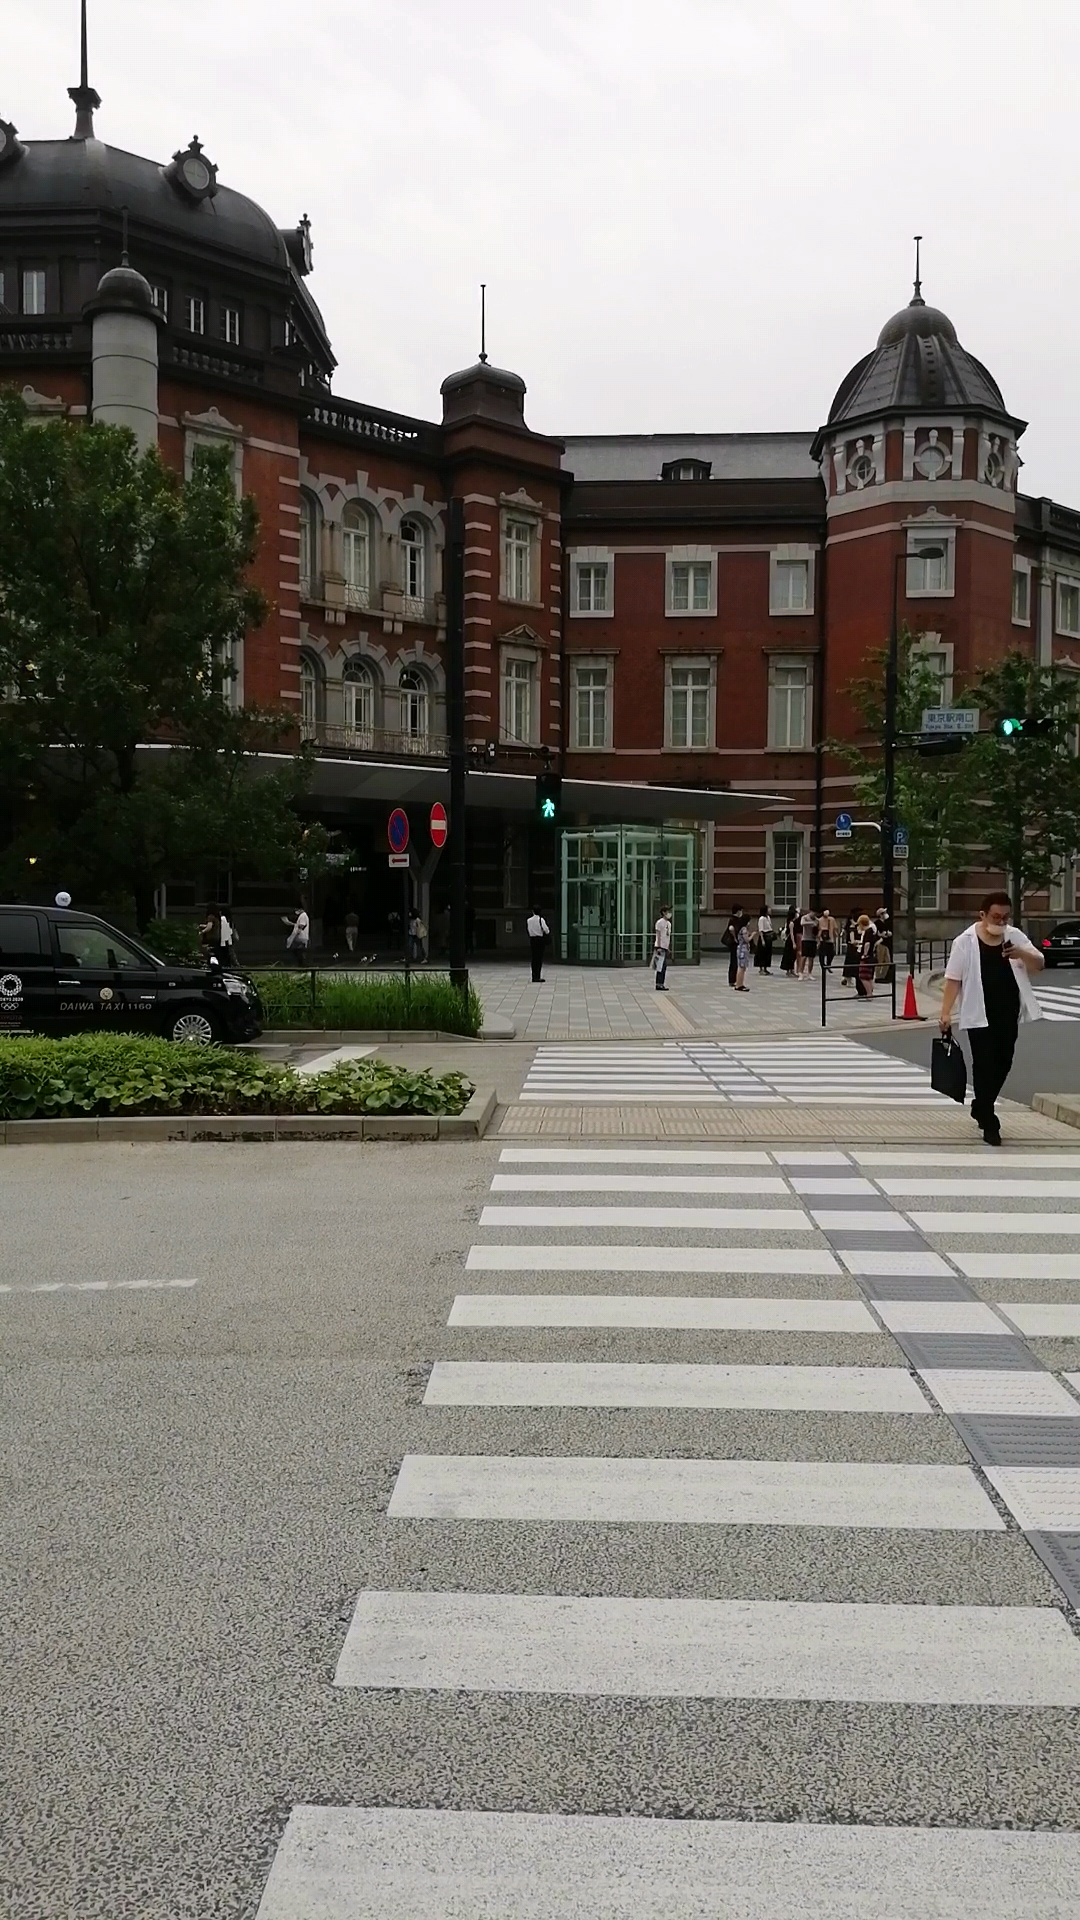green: (531, 767, 562, 825)
